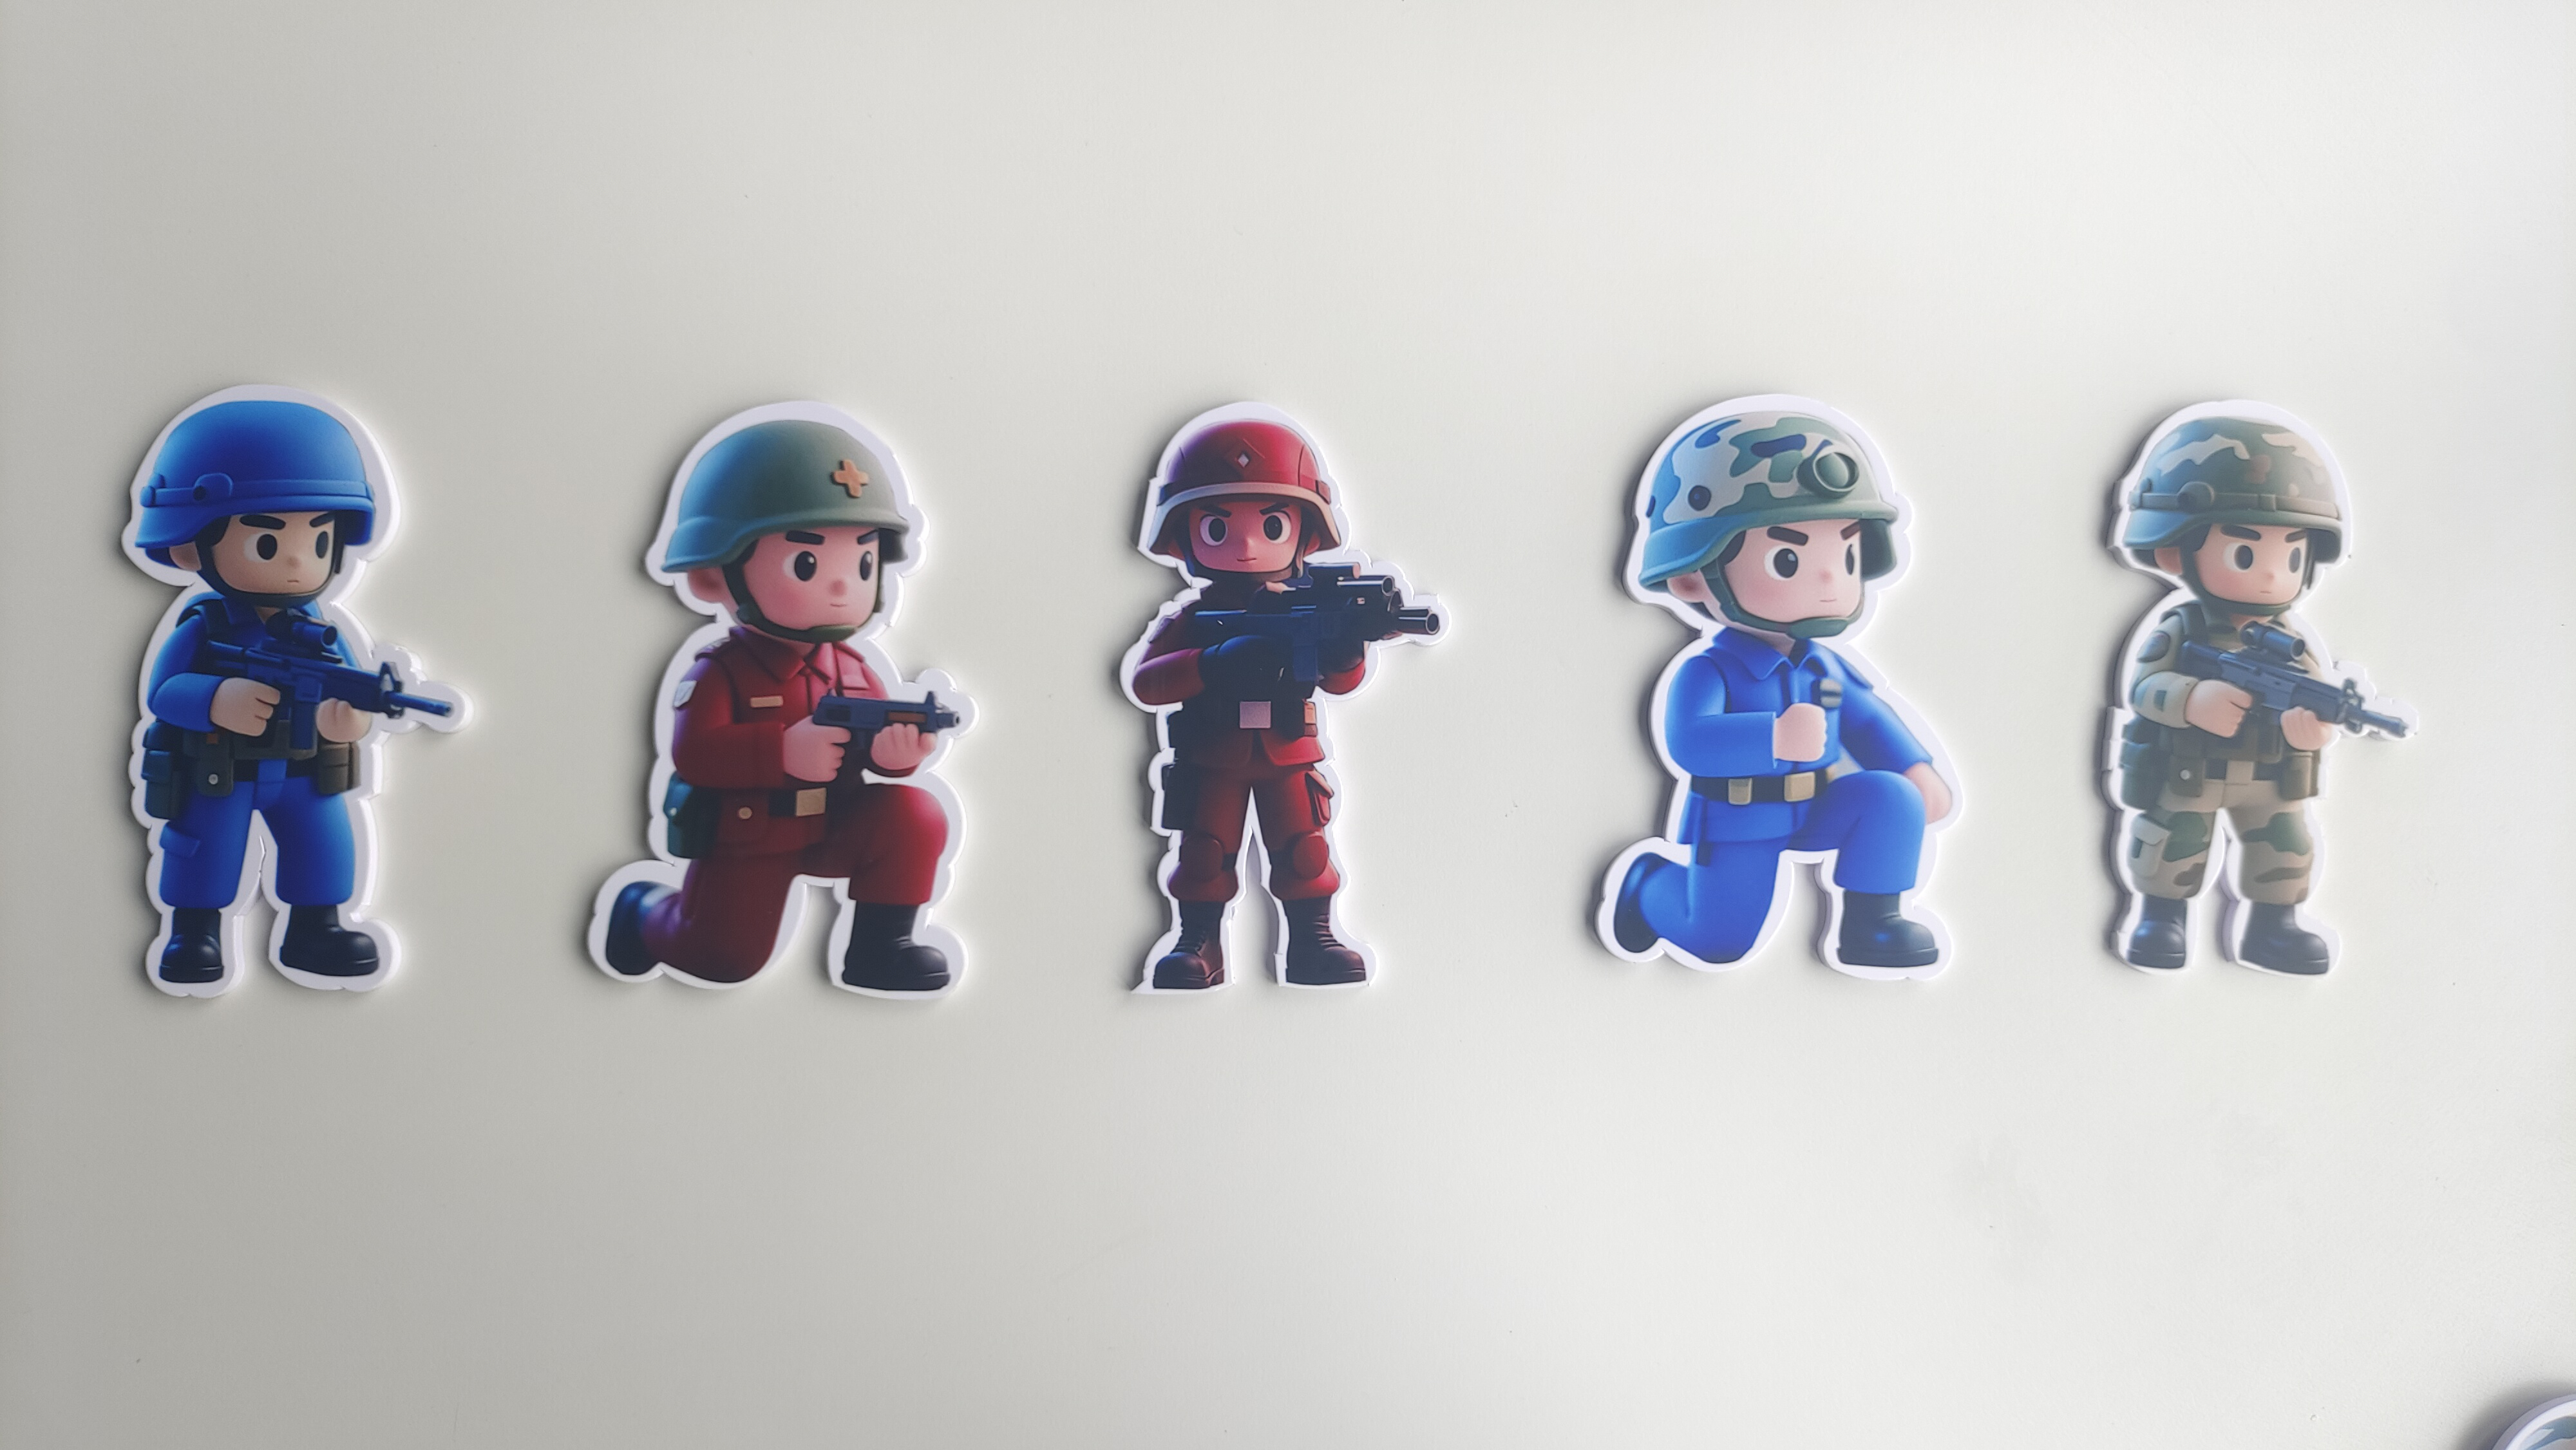enemy1: (559, 647, 993, 1031), (1093, 589, 1403, 1003)
enemy2: (1569, 644, 1960, 996), (115, 601, 412, 1003)
friend: (2086, 615, 2369, 987)
